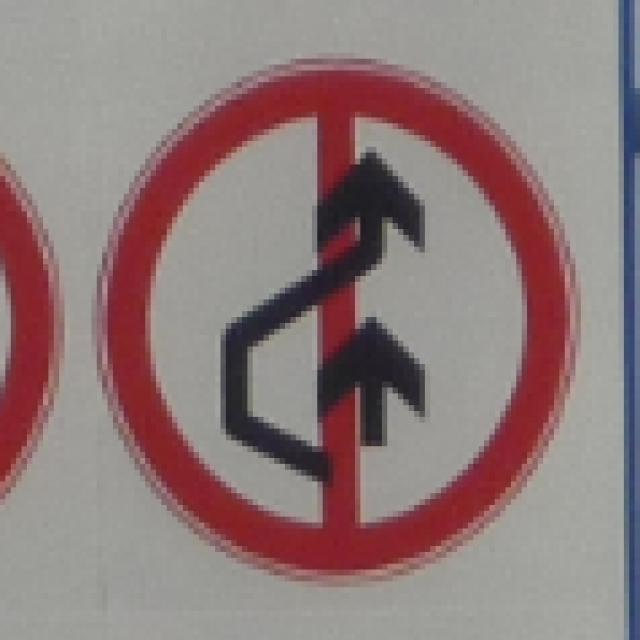Not that Direction: (100, 60, 597, 582)
